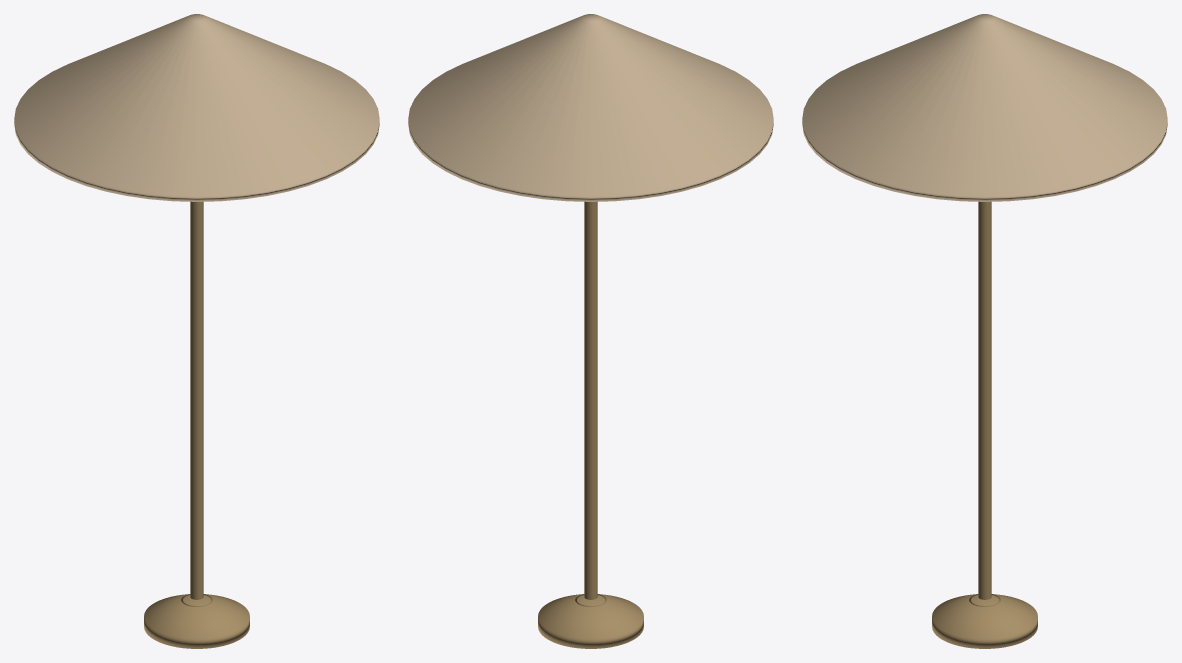
File: poolumbrella.glb
3 views of the same model, side by side, from view 1: azimuth 30°, elevation 25°; view 2: azimuth 150°, elevation 25°; view 3: azimuth 270°, elevation 25° (orthographic).
Visible parts, largest first — view 1: continuous-umbrella-canopy, continuous-umbrella-pole, umbrella-weighted-base; view 2: continuous-umbrella-canopy, continuous-umbrella-pole, umbrella-weighted-base; view 3: continuous-umbrella-canopy, continuous-umbrella-pole, umbrella-weighted-base.
Part boxes in pixels (bbox=[...]): continuous-umbrella-canopy: bbox=[14, 14, 379, 201]; continuous-umbrella-pole: bbox=[190, 201, 203, 599]; umbrella-weighted-base: bbox=[144, 594, 249, 648]; continuous-umbrella-canopy: bbox=[408, 14, 773, 201]; continuous-umbrella-pole: bbox=[584, 201, 597, 599]; umbrella-weighted-base: bbox=[538, 594, 643, 648]; continuous-umbrella-canopy: bbox=[802, 14, 1167, 201]; continuous-umbrella-pole: bbox=[978, 201, 991, 599]; umbrella-weighted-base: bbox=[932, 594, 1037, 648].
Size of the model in its own units: 1.38 by 2.53 by 1.38.
